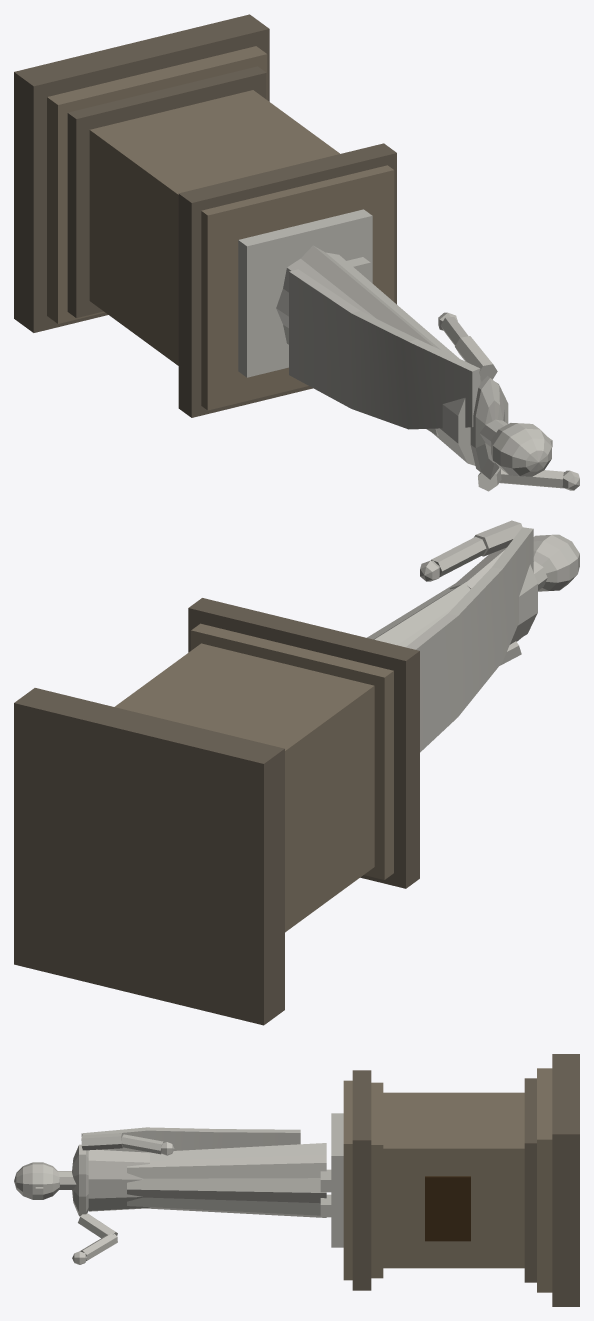
File: statue-plinth.glb
3 renders of one model, top to bottom at view 1: azimuth 30°, elevation 25°; view 2: azimuth 150°, elevation 25°; view 3: azimuth 270°, elevation 25°, orthographic. The views are drawn at different scales.
Visible parts, largest first — view 1: statue-plinth; view 2: statue-plinth; view 3: statue-plinth.
Part boxes in pixels (box(x1,y1,x2,y2)): statue-plinth: box(14, 14, 579, 491); statue-plinth: box(14, 520, 579, 1025); statue-plinth: box(14, 1054, 579, 1306).
Size of the model in its own units: 1.24 by 1.24 by 3.69.
